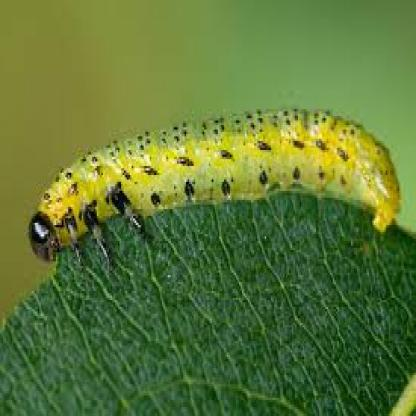sawfly: (28, 106, 402, 252)
